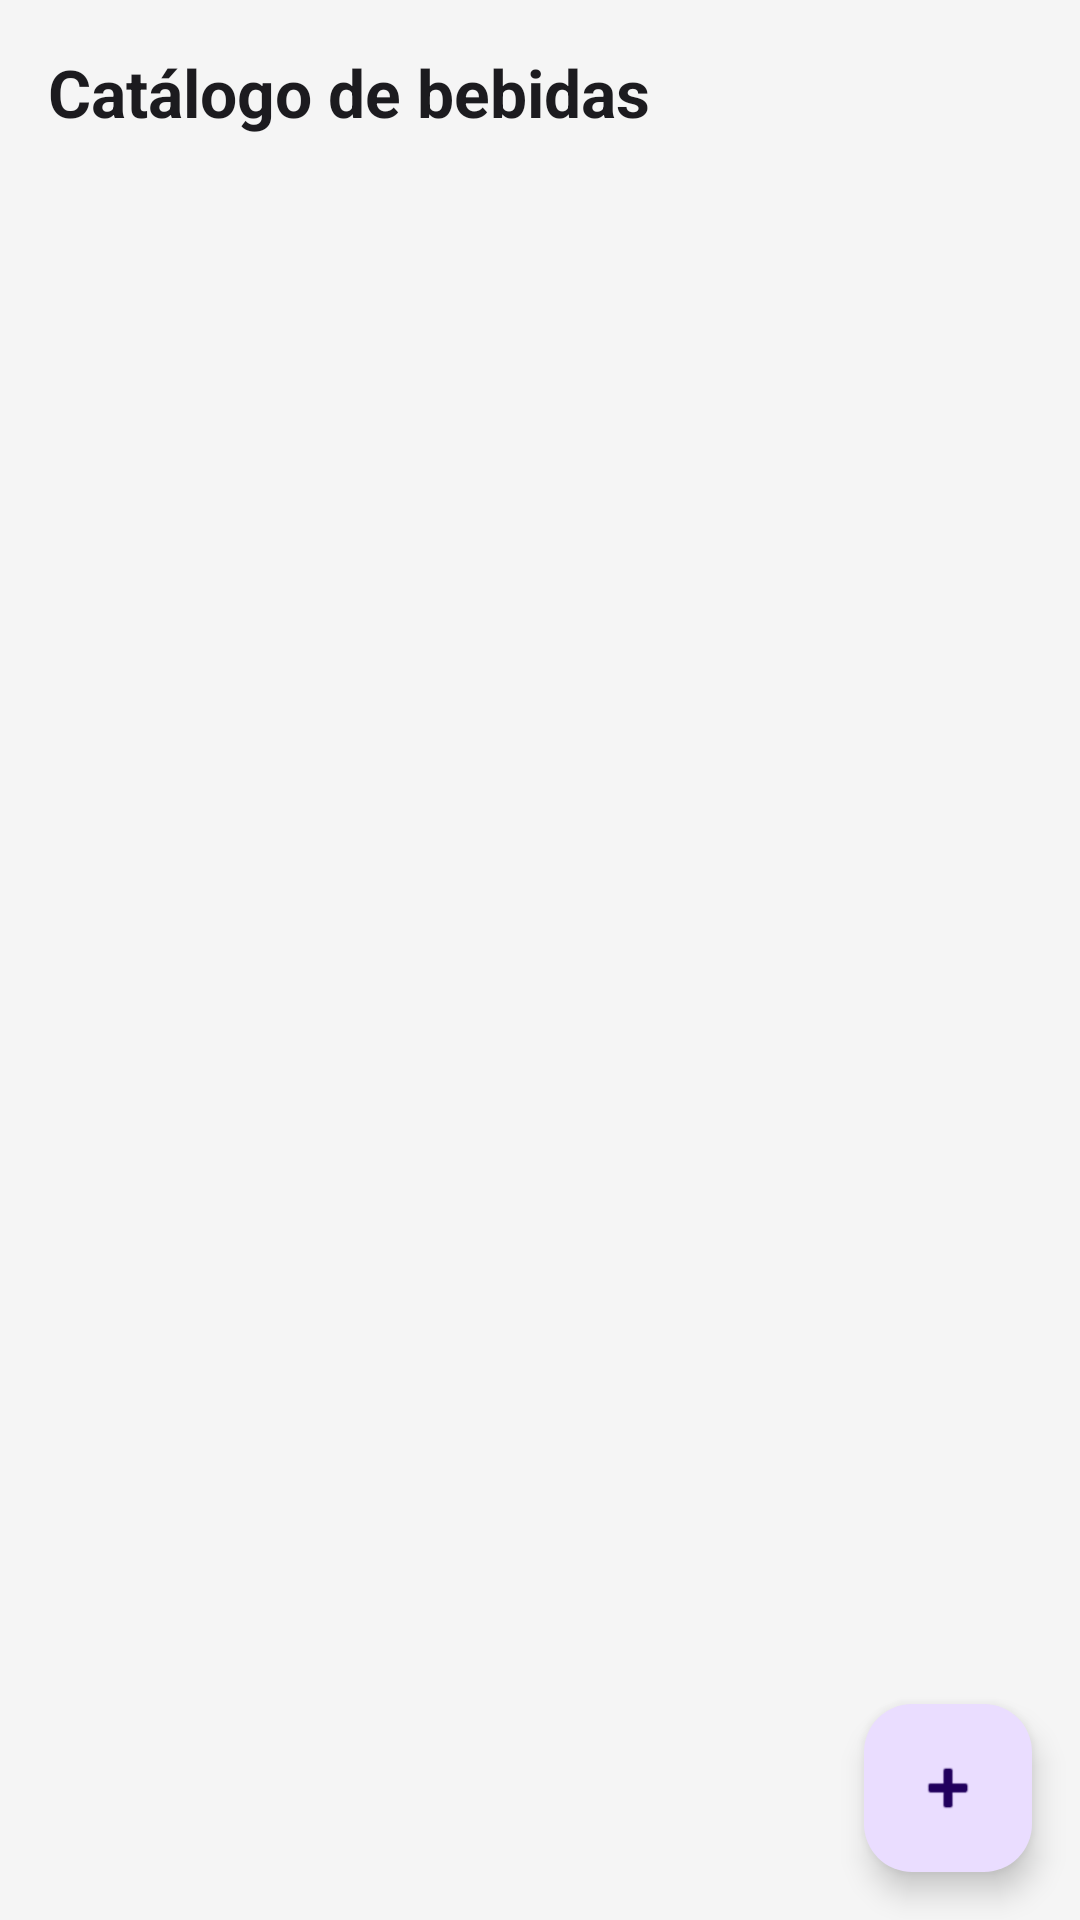

Icons on this 1080 x 1920 Android screen, each with its box as (x1,y1,x2,y2):
Agregar bebida: (864,1704,1032,1872)
